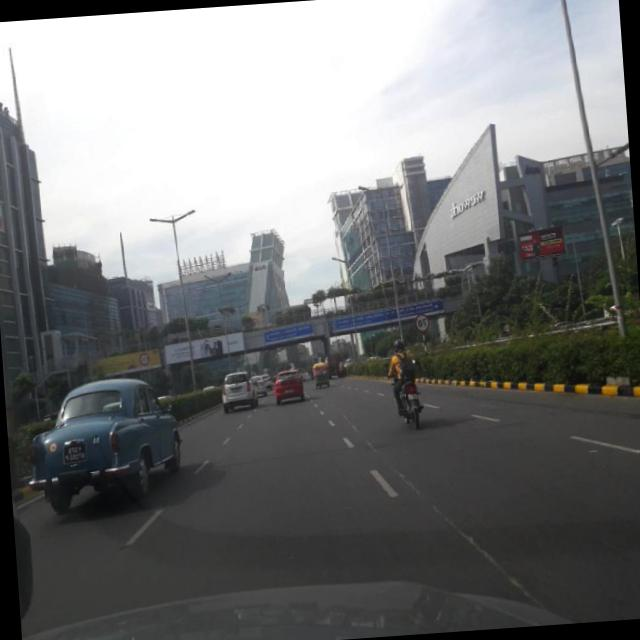crack: (191, 447, 640, 627)
pothole: (434, 494, 548, 614), (338, 404, 378, 458), (394, 462, 421, 492)
